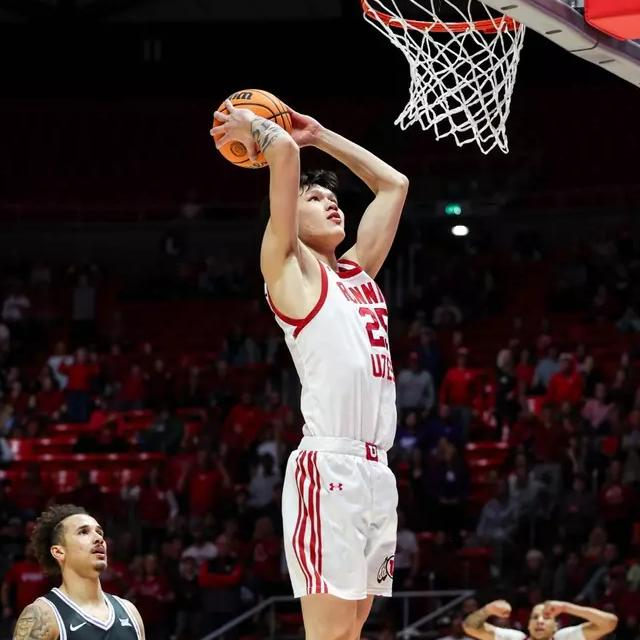basketball: (212, 88, 294, 170)
hoop: (358, 0, 522, 150)
